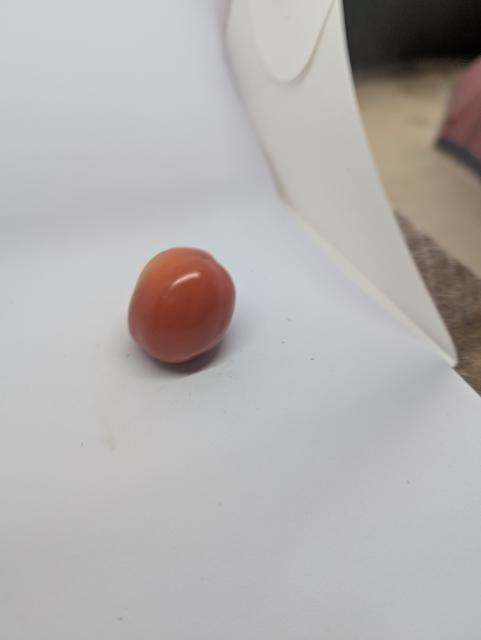red: (107, 233, 251, 376)
